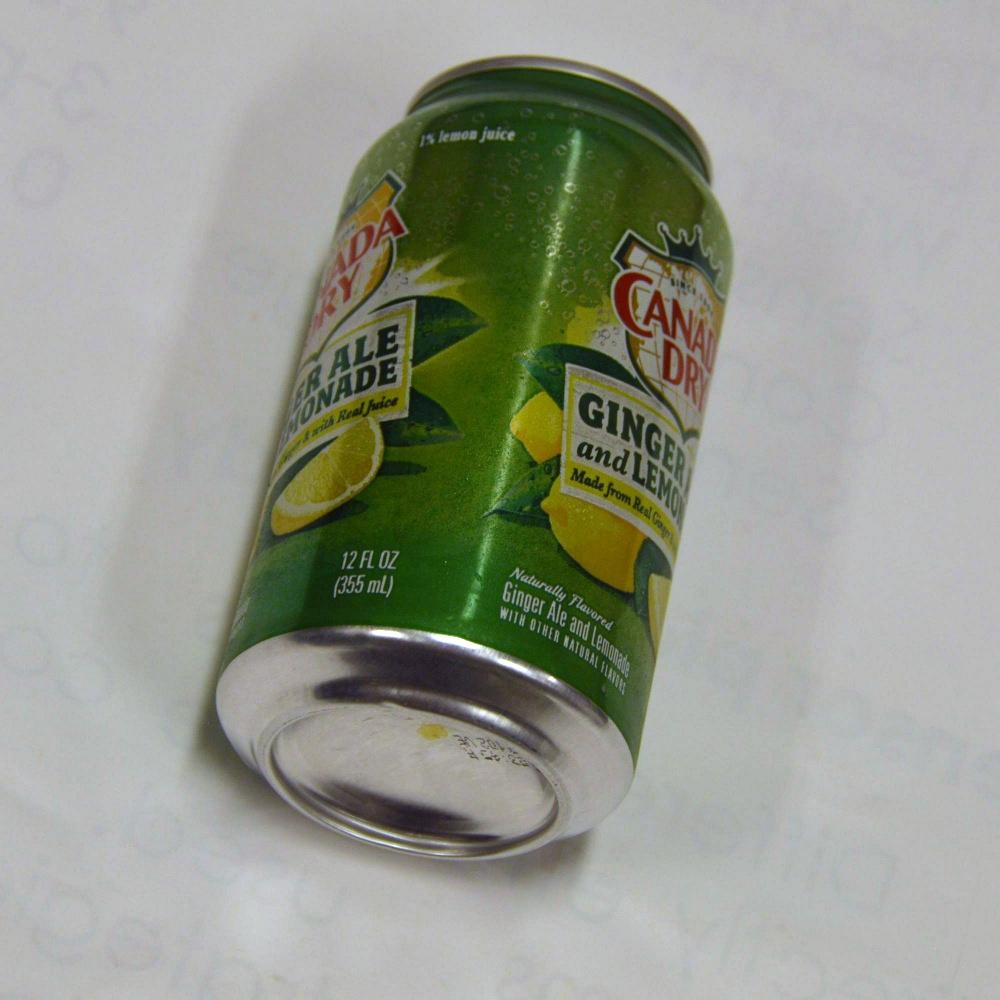Metal: (151, 52, 681, 915)
